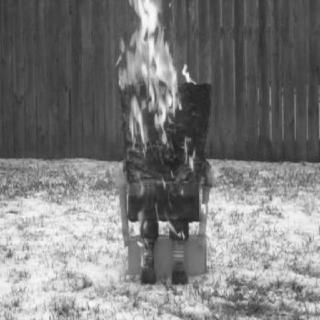Fire: (115, 0, 202, 158), (122, 157, 206, 274)
